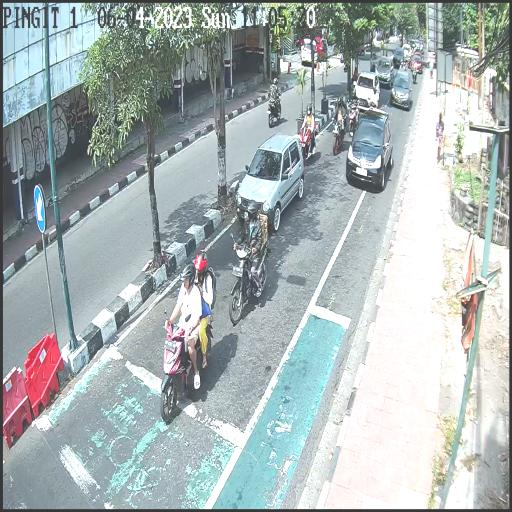mobil: (234, 134, 302, 226), (348, 105, 392, 192), (353, 70, 380, 108), (392, 69, 412, 112), (376, 56, 394, 90), (411, 52, 423, 74), (392, 47, 404, 66)
motor: (161, 310, 218, 424), (230, 231, 272, 326), (298, 123, 317, 160), (266, 89, 282, 127), (332, 117, 346, 156), (348, 102, 359, 136), (411, 68, 418, 84)
